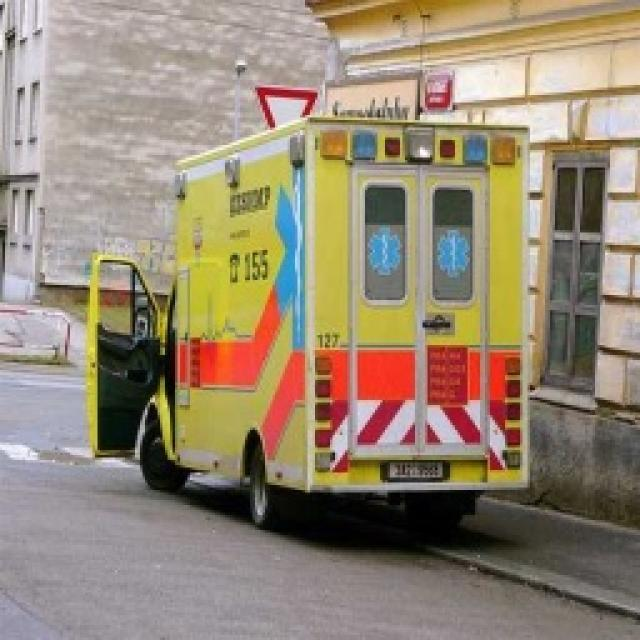emergency-vehicle: (76, 120, 526, 522)
